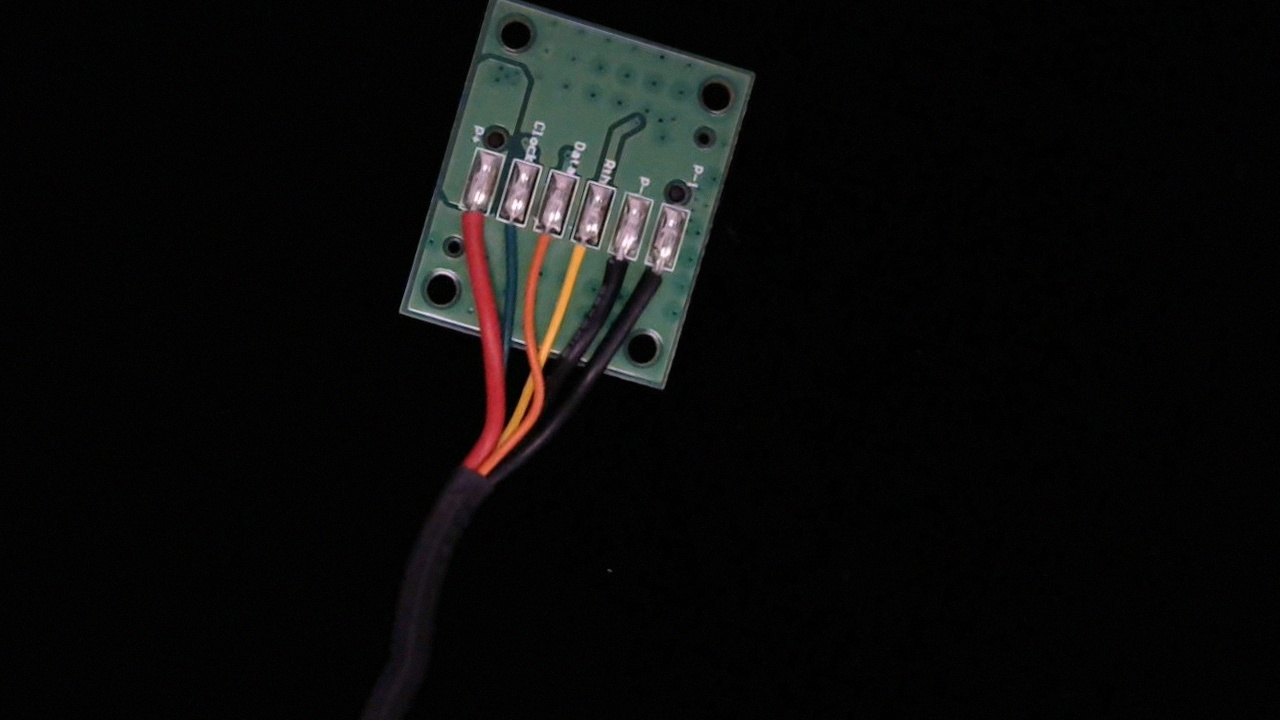Black: (588, 238, 643, 310)
Black1: (629, 249, 680, 322)
Green: (484, 202, 530, 267)
Orange: (518, 215, 566, 283)
Red: (445, 193, 493, 258)
Yellow: (553, 226, 604, 298)
